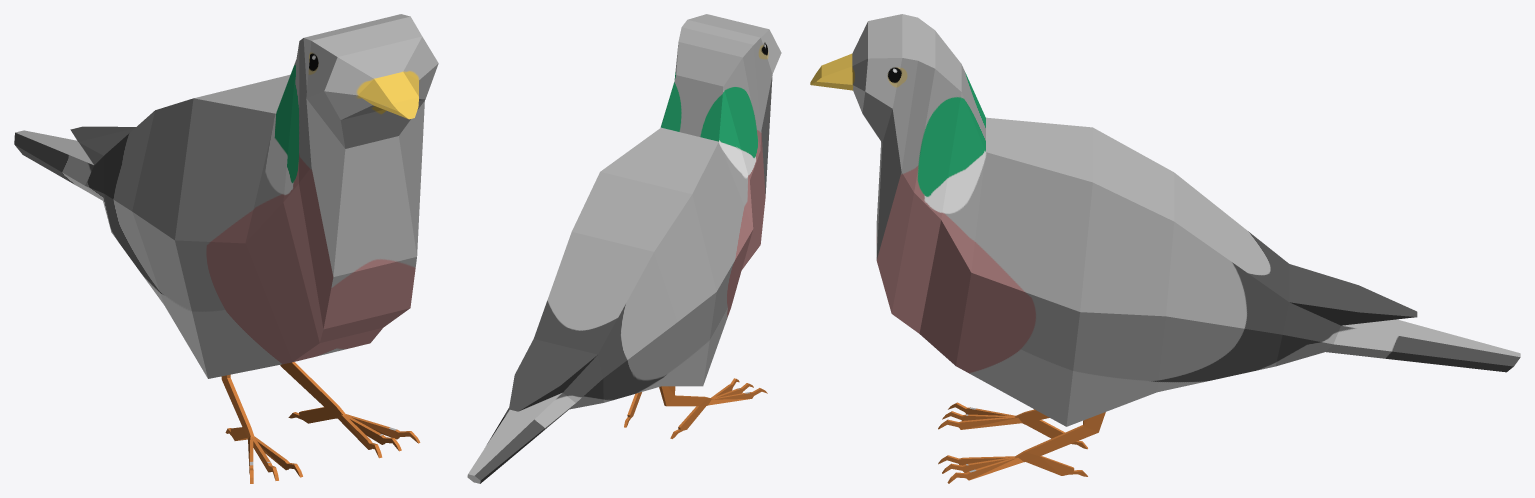
The model's file is kersulis.glb.
The picture shows the model from 3 angles, left to right: view 1: azimuth 30°, elevation 25°; view 2: azimuth 150°, elevation 25°; view 3: azimuth 270°, elevation 25°; orthographic projection. The views are drawn at different scales.
Parts seen in each view (by area): view 1: Plane; view 2: Plane; view 3: Plane.
Part boxes in pixels (x1,y1,x2,y2): Plane: [14, 14, 438, 483]; Plane: [467, 14, 781, 483]; Plane: [810, 14, 1520, 483].
Bounding box in the file's own units: 1.01 × 2.58 × 3.9.
1 material, 1 textured.
